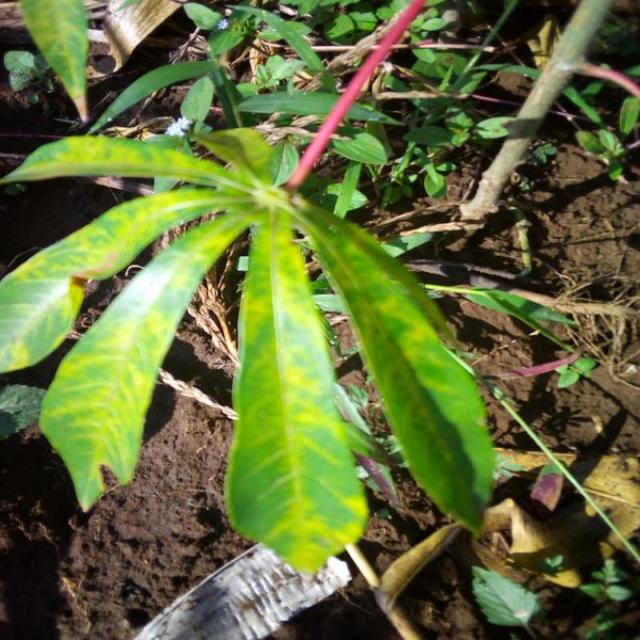cassava leaf: (1, 123, 497, 576), (222, 199, 370, 576)
